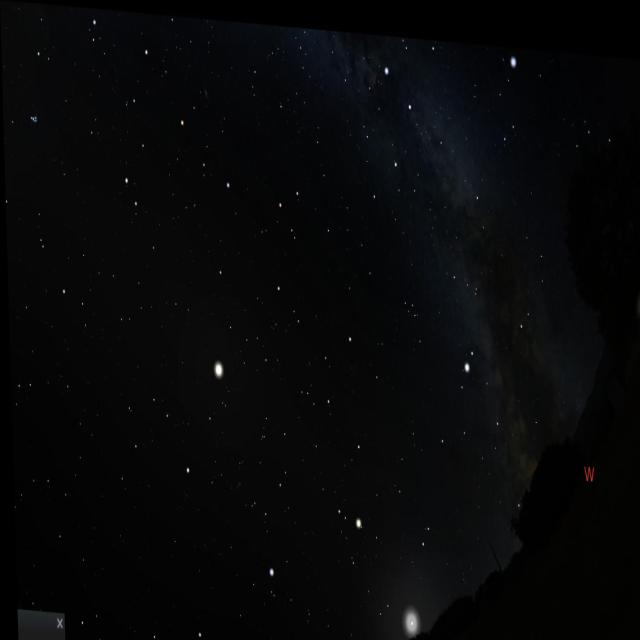aquila: (433, 337, 541, 501)
cygnus: (369, 27, 480, 199)
lyra: (490, 36, 526, 140)
moon: (386, 577, 427, 640)
pleiades: (22, 102, 44, 145)
taurus: (2, 83, 50, 221)
